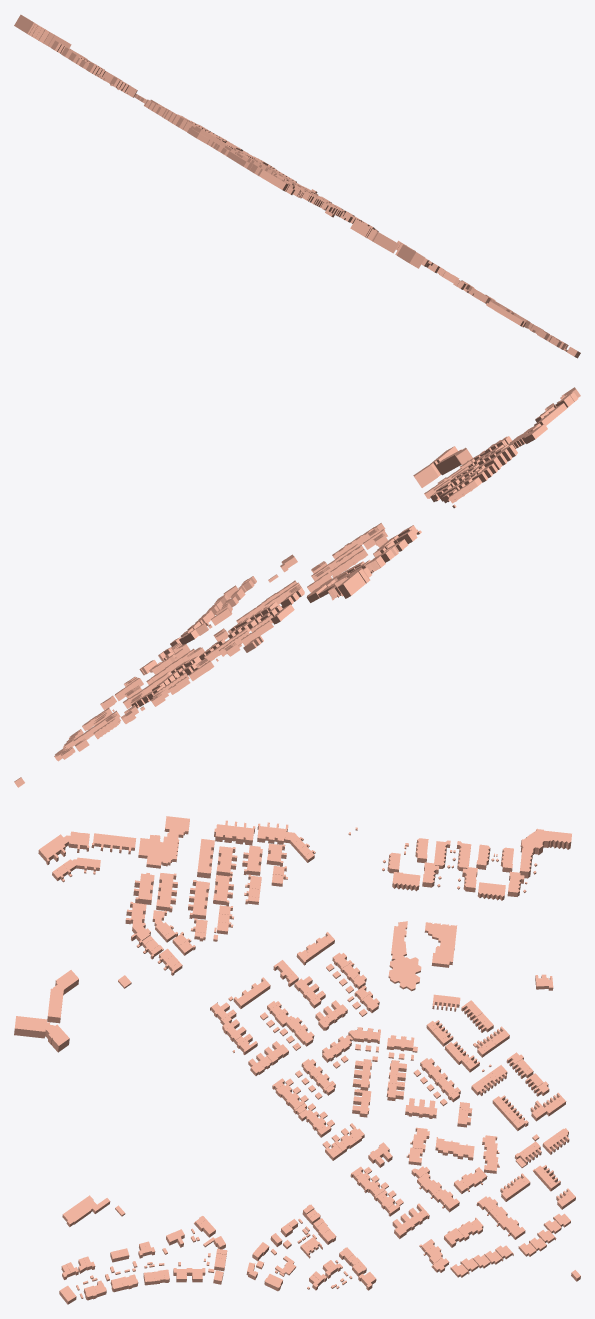
3 renders of one model, top to bottom at view 1: azimuth 30°, elevation 25°; view 2: azimuth 150°, elevation 25°; view 3: azimuth 270°, elevation 25°, orthographic. The views are drawn at different scales.
Size of the model in its own units: 516 by 393 by 659.
